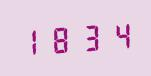eight: (46, 22, 73, 56)
four: (102, 18, 129, 52)
one: (18, 24, 45, 58)
three: (74, 20, 101, 54)
